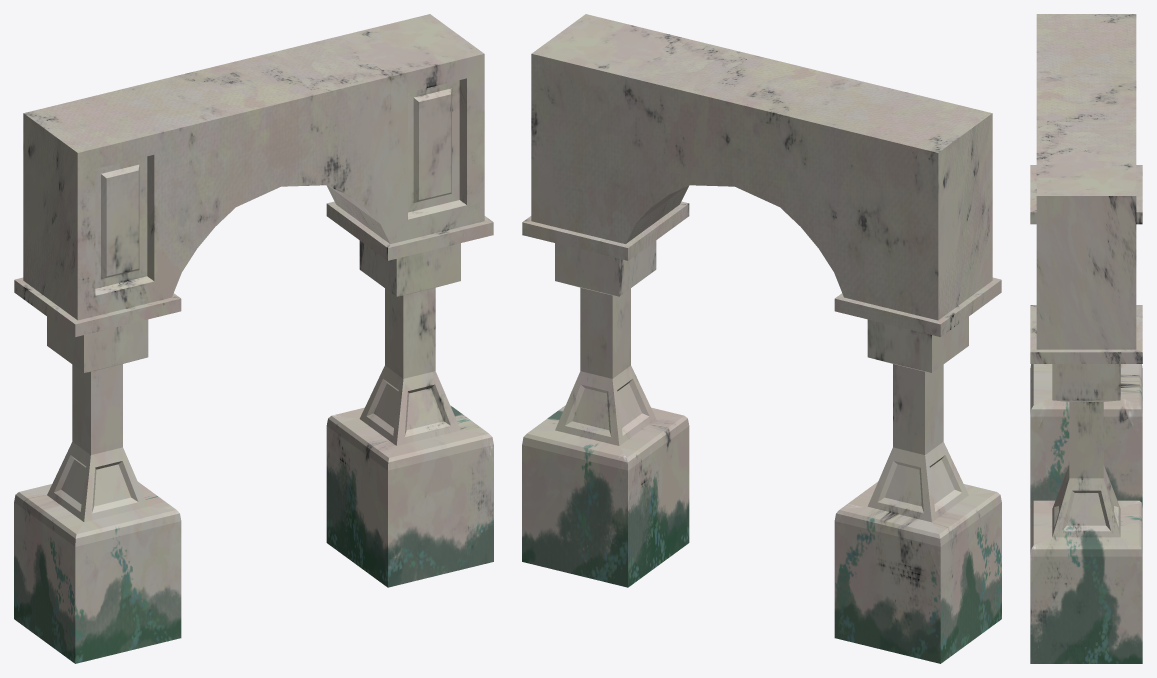
Rendered from gate.dae.
The picture shows the model from 3 angles, left to right: view 1: azimuth 30°, elevation 25°; view 2: azimuth 150°, elevation 25°; view 3: azimuth 270°, elevation 25°; orthographic projection. The views are drawn at different scales.
Parts seen in each view (by area): view 1: Cube; view 2: Cube; view 3: Cube.
Part boxes in pixels (<box>): Cube: <box>14,14,493,663</box>; Cube: <box>522,14,1001,663</box>; Cube: <box>1030,14,1142,663</box>.
Bounding box in the file's own units: 8.89 × 2.25 × 10.29.
Materials: 1 (1 with a texture image).
